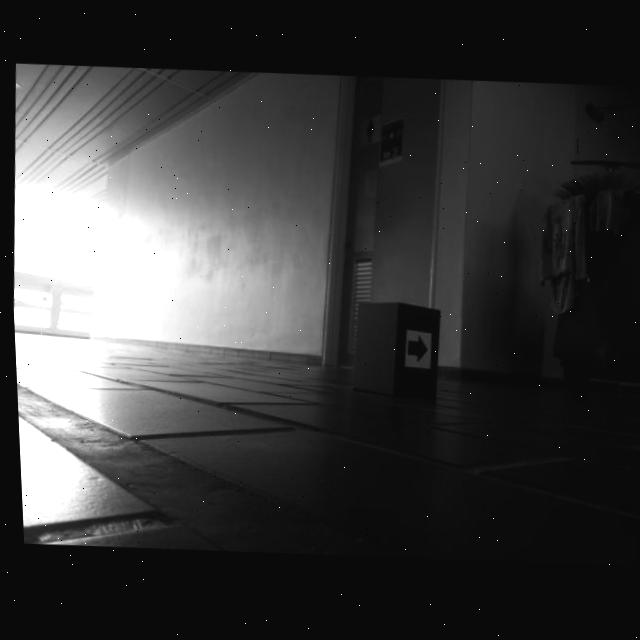RIGHT: (404, 336, 426, 366)
